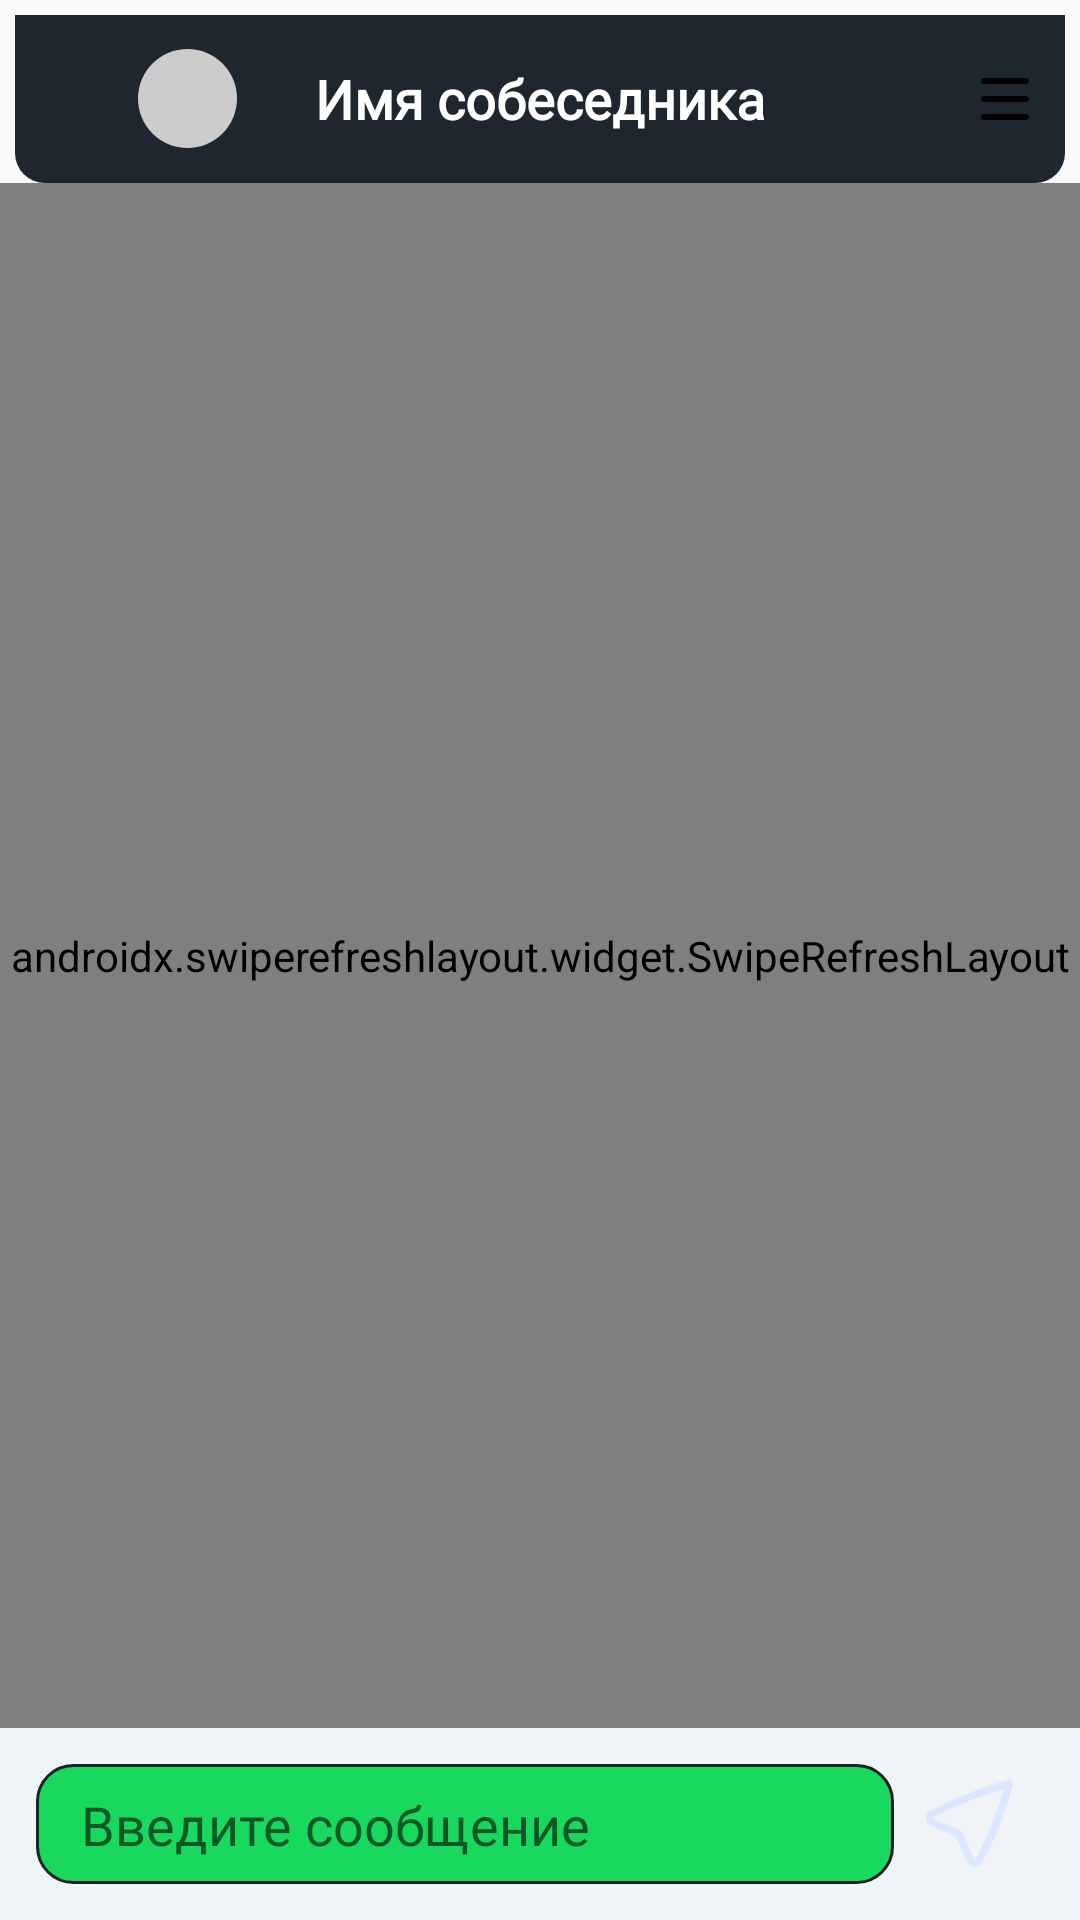

Screen size 1080px×1920px. Icon name, then its center in pixels as [x,y]:
Параметры: [1005,99]
